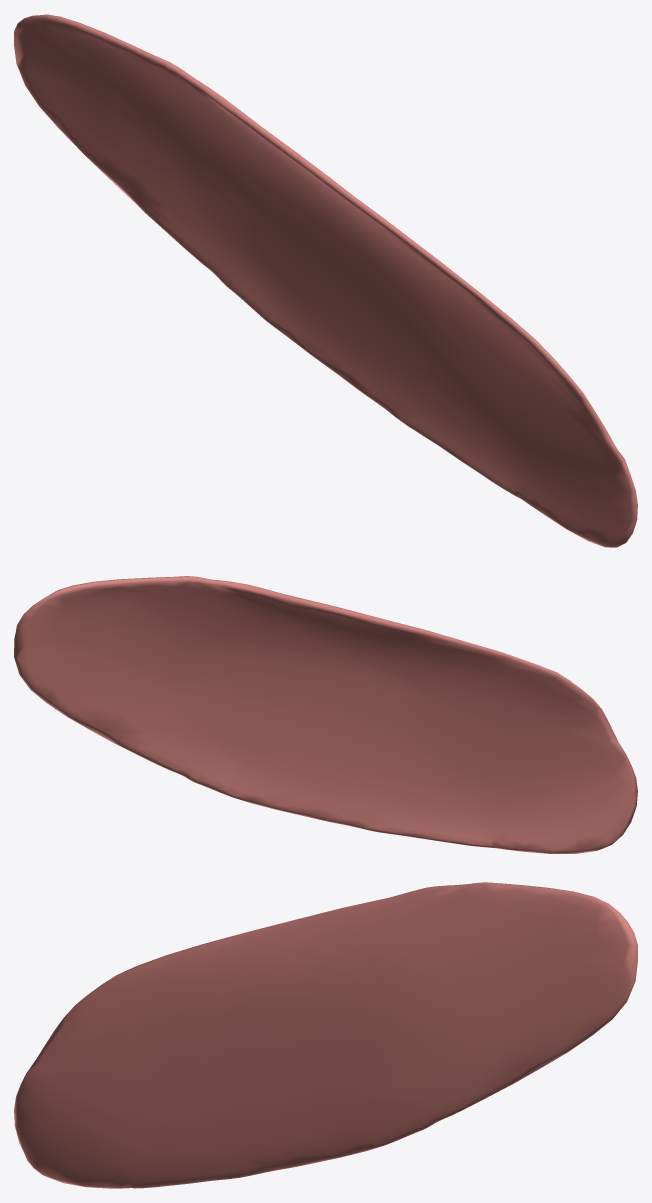
The picture shows the model from 3 angles, top to bottom: view 1: azimuth 90°, elevation 25°; view 2: azimuth 150°, elevation 25°; view 3: azimuth 270°, elevation 25°; orthographic projection.
Visible parts, largest first — view 1: ZA_9ccb0a655957fc29; view 2: ZA_9ccb0a655957fc29; view 3: ZA_9ccb0a655957fc29.
Boxes of the visible parts, left/top/right/bottom form: ZA_9ccb0a655957fc29: left=14, top=14, right=637, bottom=547; ZA_9ccb0a655957fc29: left=14, top=576, right=637, bottom=853; ZA_9ccb0a655957fc29: left=14, top=882, right=637, bottom=1188.
Size of the model in its own units: 0.023 by 0.0277 by 0.0386.
